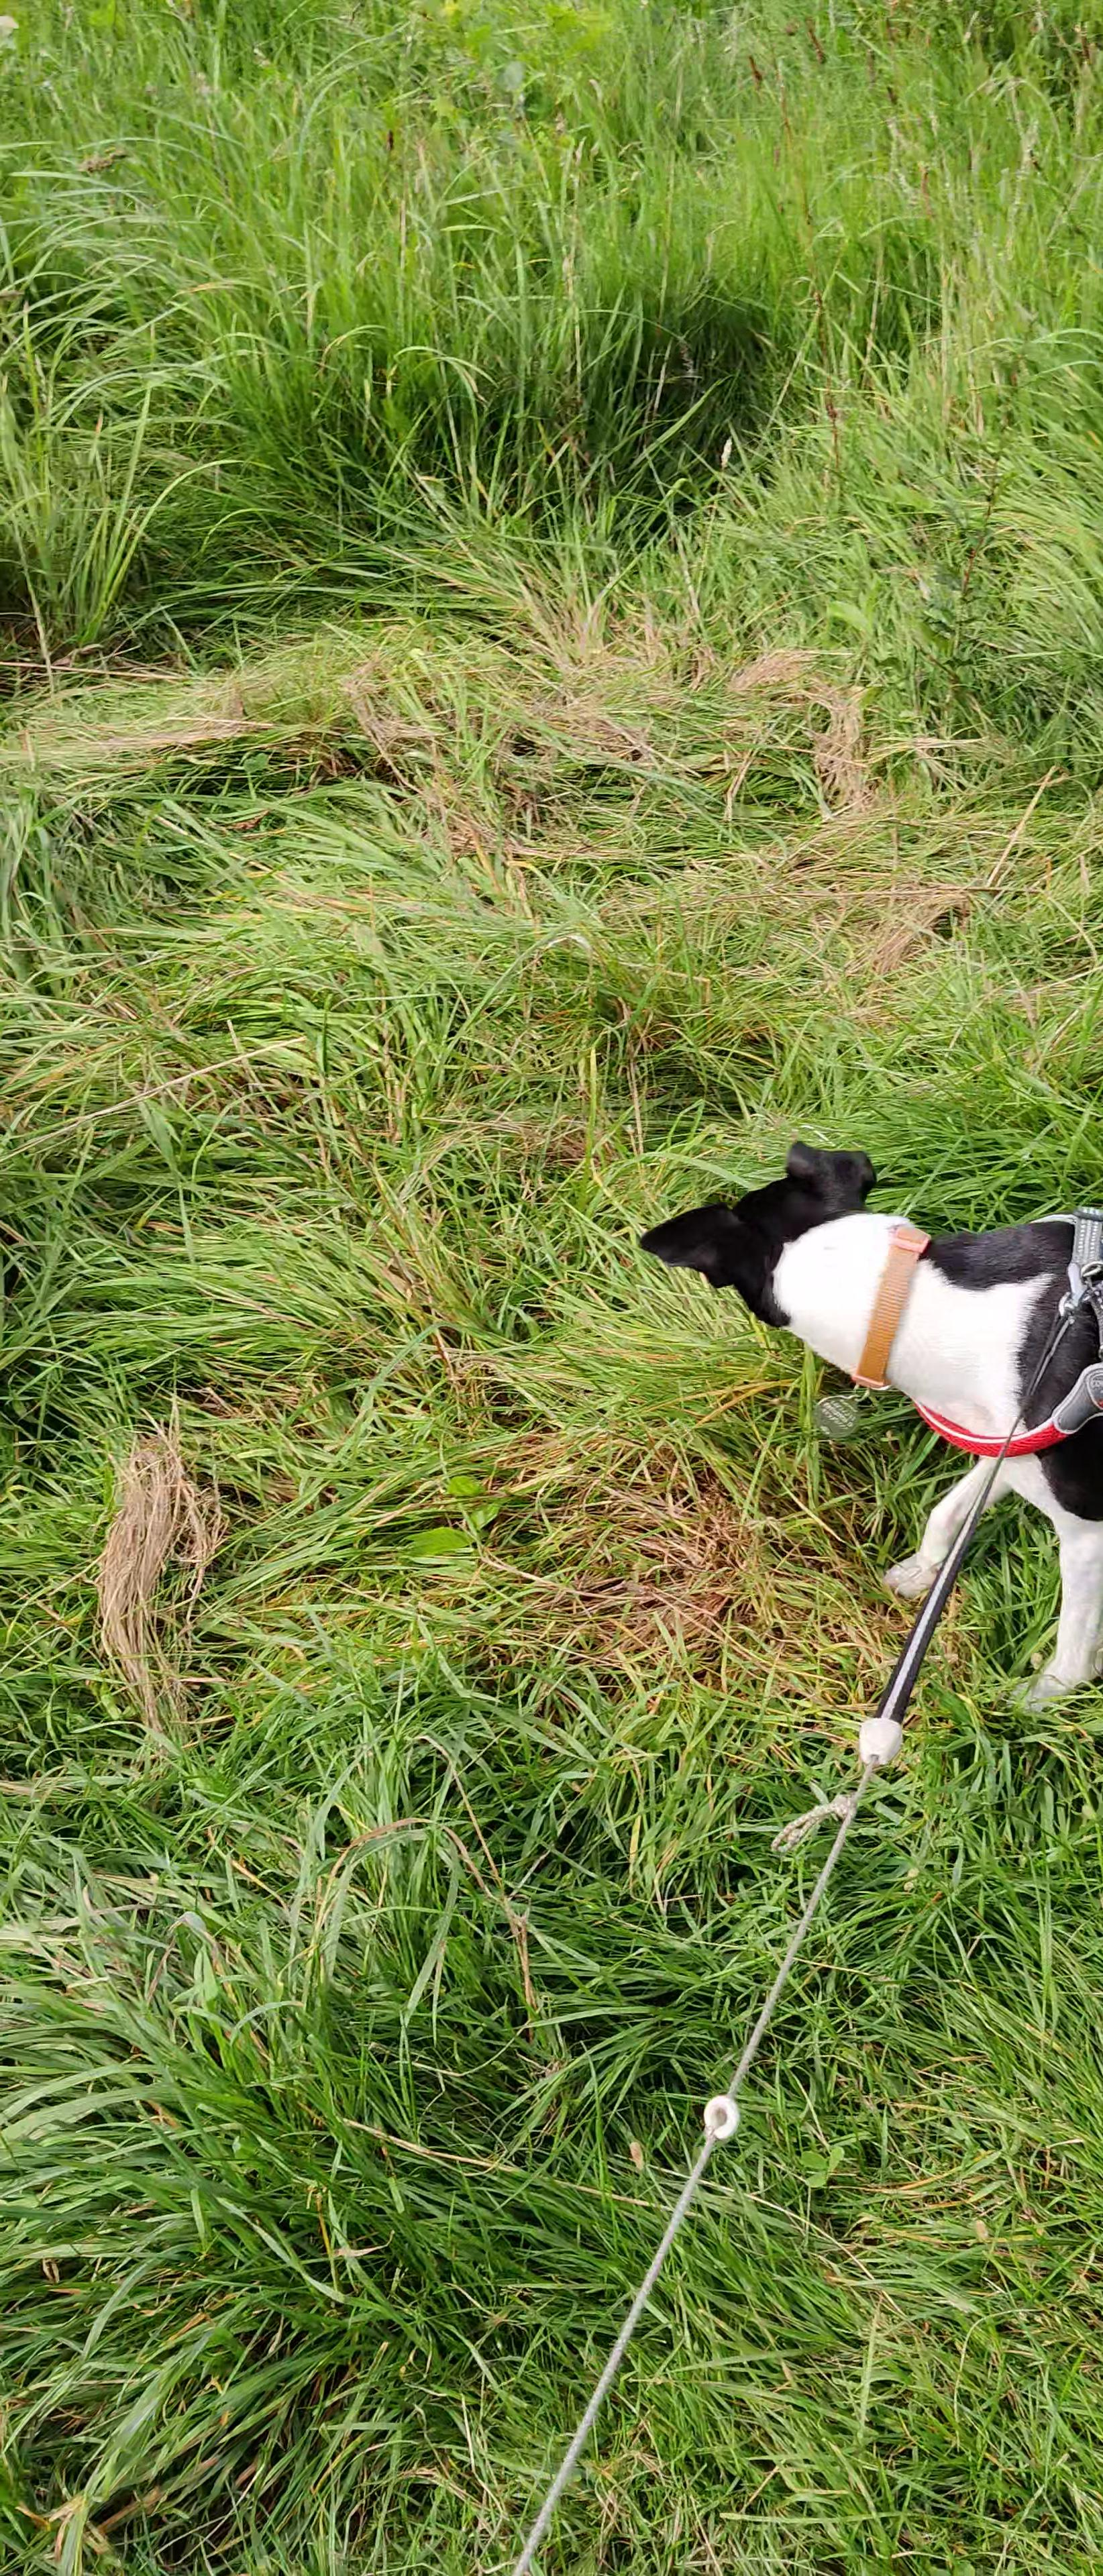Dog: (628, 1137, 1103, 1718)
